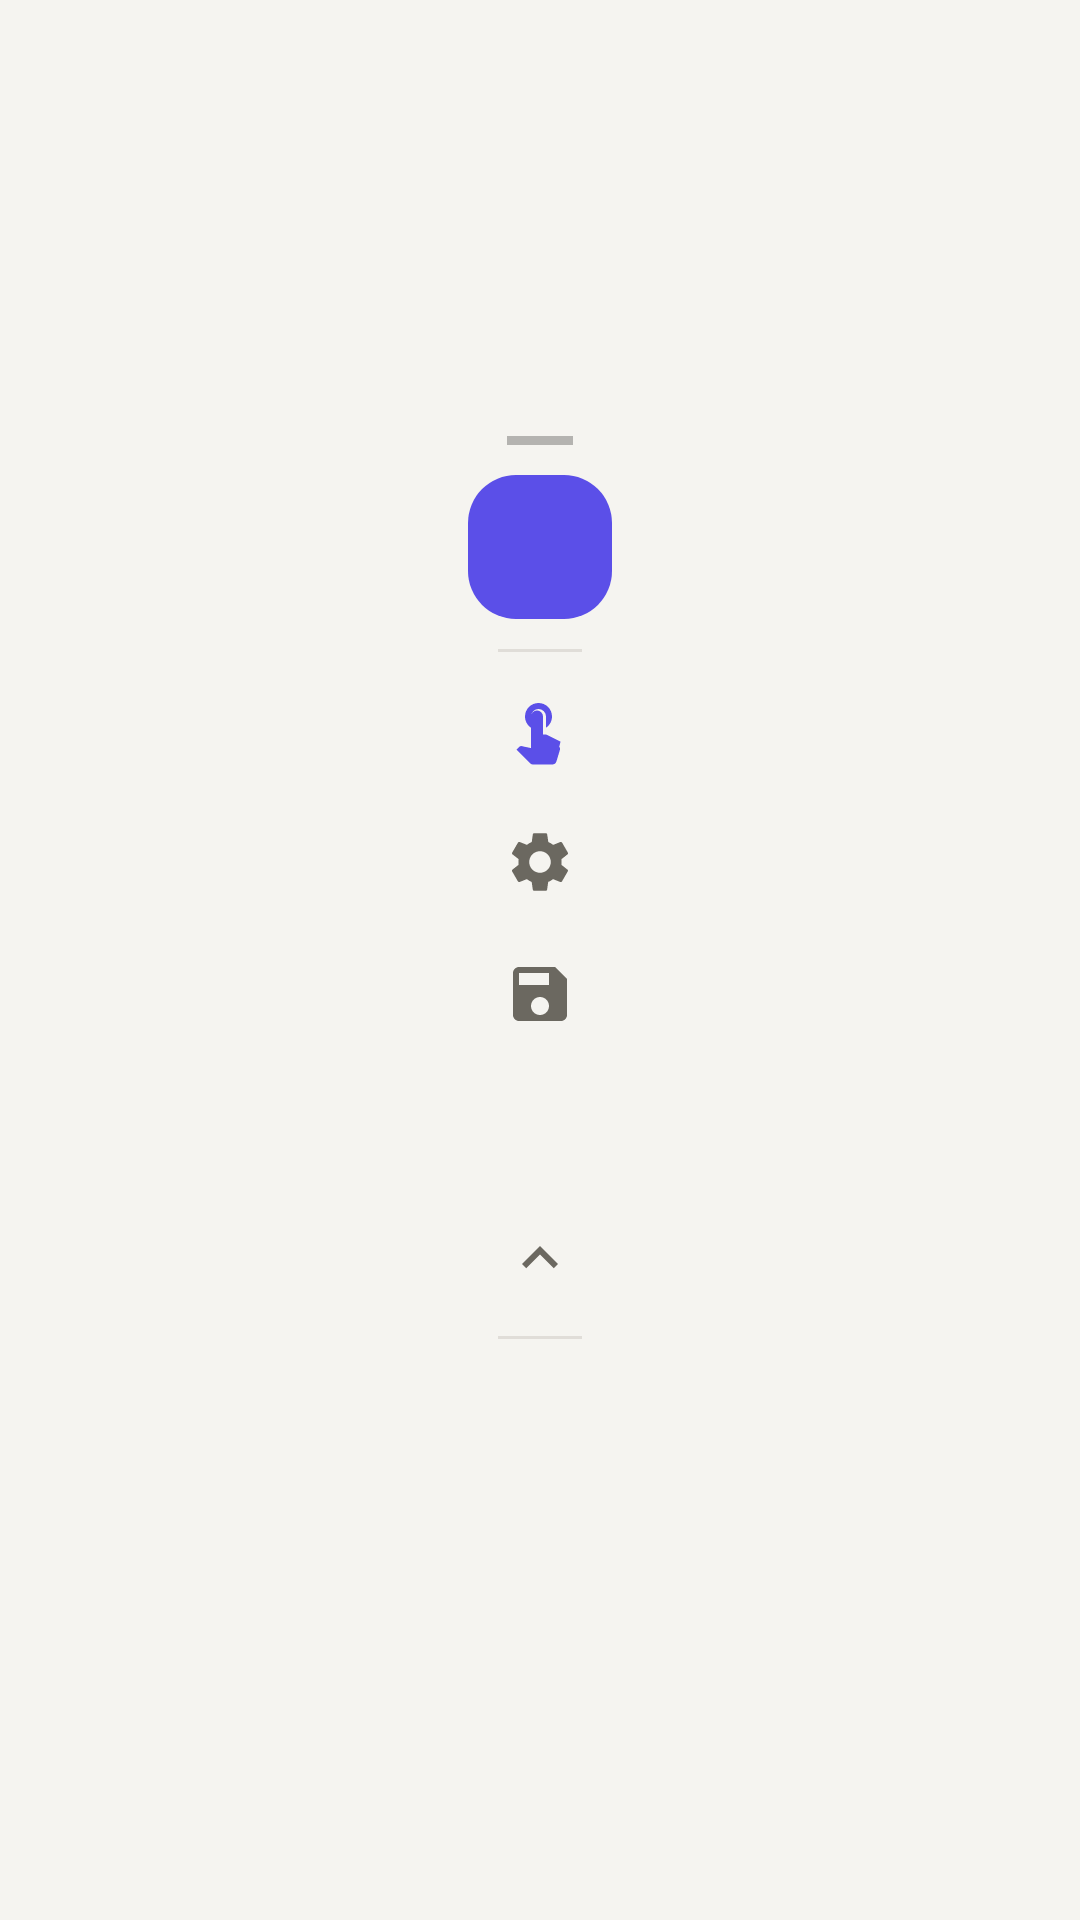

Named icons in this screenshot (1080px x 1920px) and their bounding boxes, (x1, y1, x2, y2):
Choose action: (516, 703, 561, 765)
Save: (513, 967, 567, 1021)
Settings: (512, 833, 568, 891)
Show less: (522, 1246, 558, 1268)
